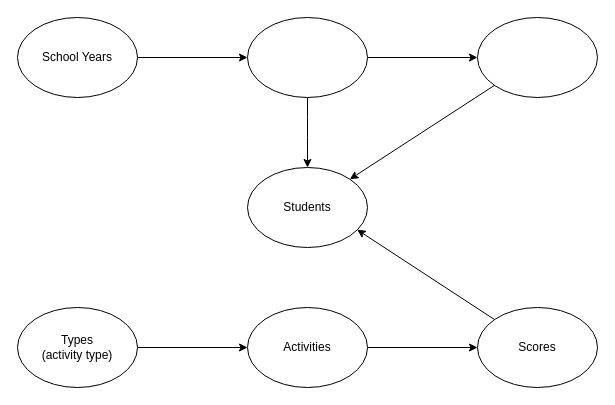
Some shapes in this 615 by 405 pixel diagram are drawn without their labels. Each missing label, with the centre of its shape:
"Grade Level Sections" belongs at point (537, 57).
"Grade Levels" belongs at point (307, 57).
